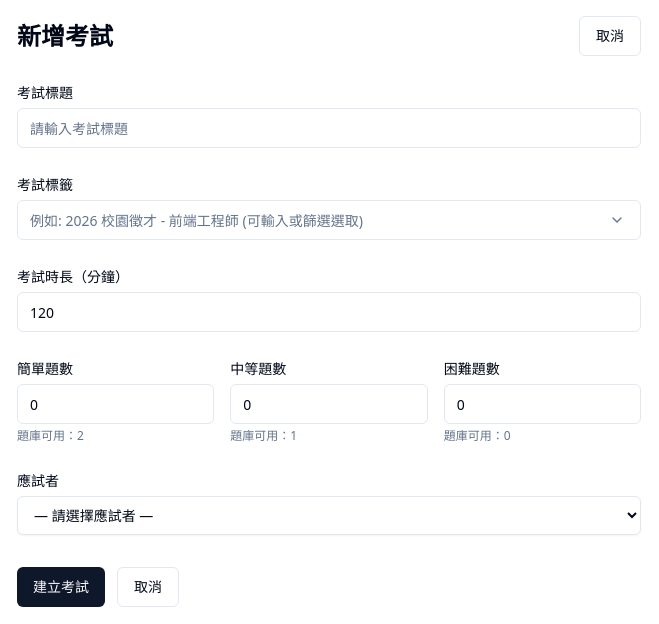
Scenario: ExamFormPage › fetches existing tags and renders autocomplete dropdown suggestions
expect the heading "新增考試" is shown: met, box [17,20,113,52]
expect the text "TagX" is not shown: met
# Focus on tag input to open the dropdown
Focus the field labelled "考試標籤" at (329, 220), box [17,200,641,240]
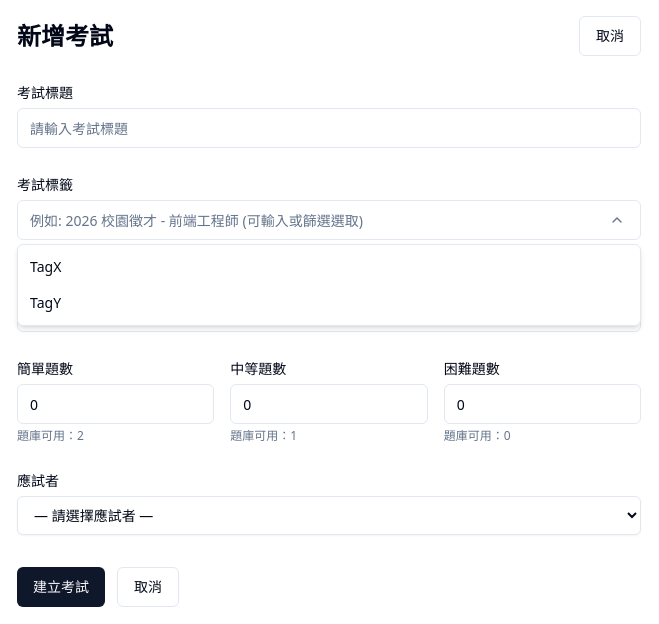
expect the list item "TagX" is shown: met, box [30,257,61,276]
expect the list item "TagY" is shown: met
# Click on an option TagY
Click the list item "TagY" at (46, 302), box [30,293,61,312]
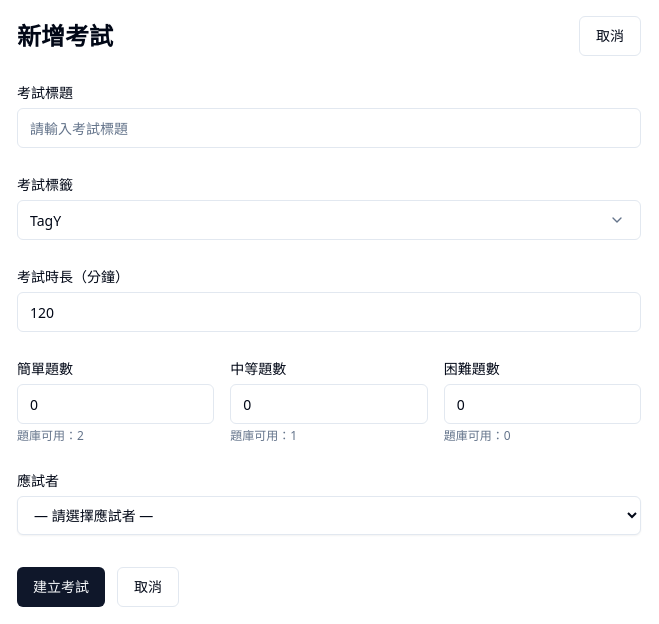
expect the field labelled "考試標籤" holds "TagY": met, box [17,200,641,240]
